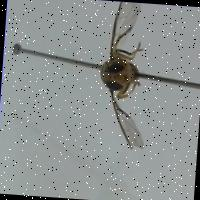Oriental-fruit-fly: (87, 2, 174, 164)
